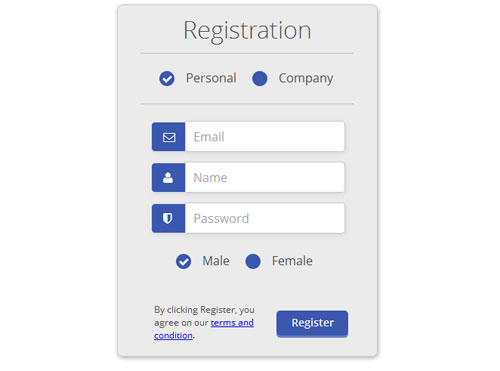_form_: (37, 1, 453, 371)
button: (276, 309, 351, 339)
field: (149, 120, 346, 153), (151, 161, 347, 194), (150, 203, 347, 235)
radio: (158, 68, 177, 89), (245, 251, 262, 271), (174, 252, 192, 270), (252, 69, 268, 88)
